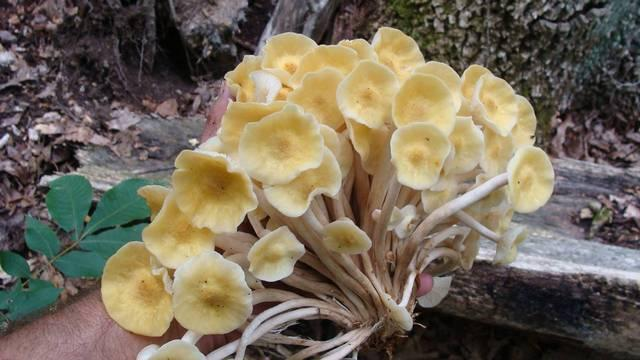Edible Mushroom: (99, 25, 555, 359)
